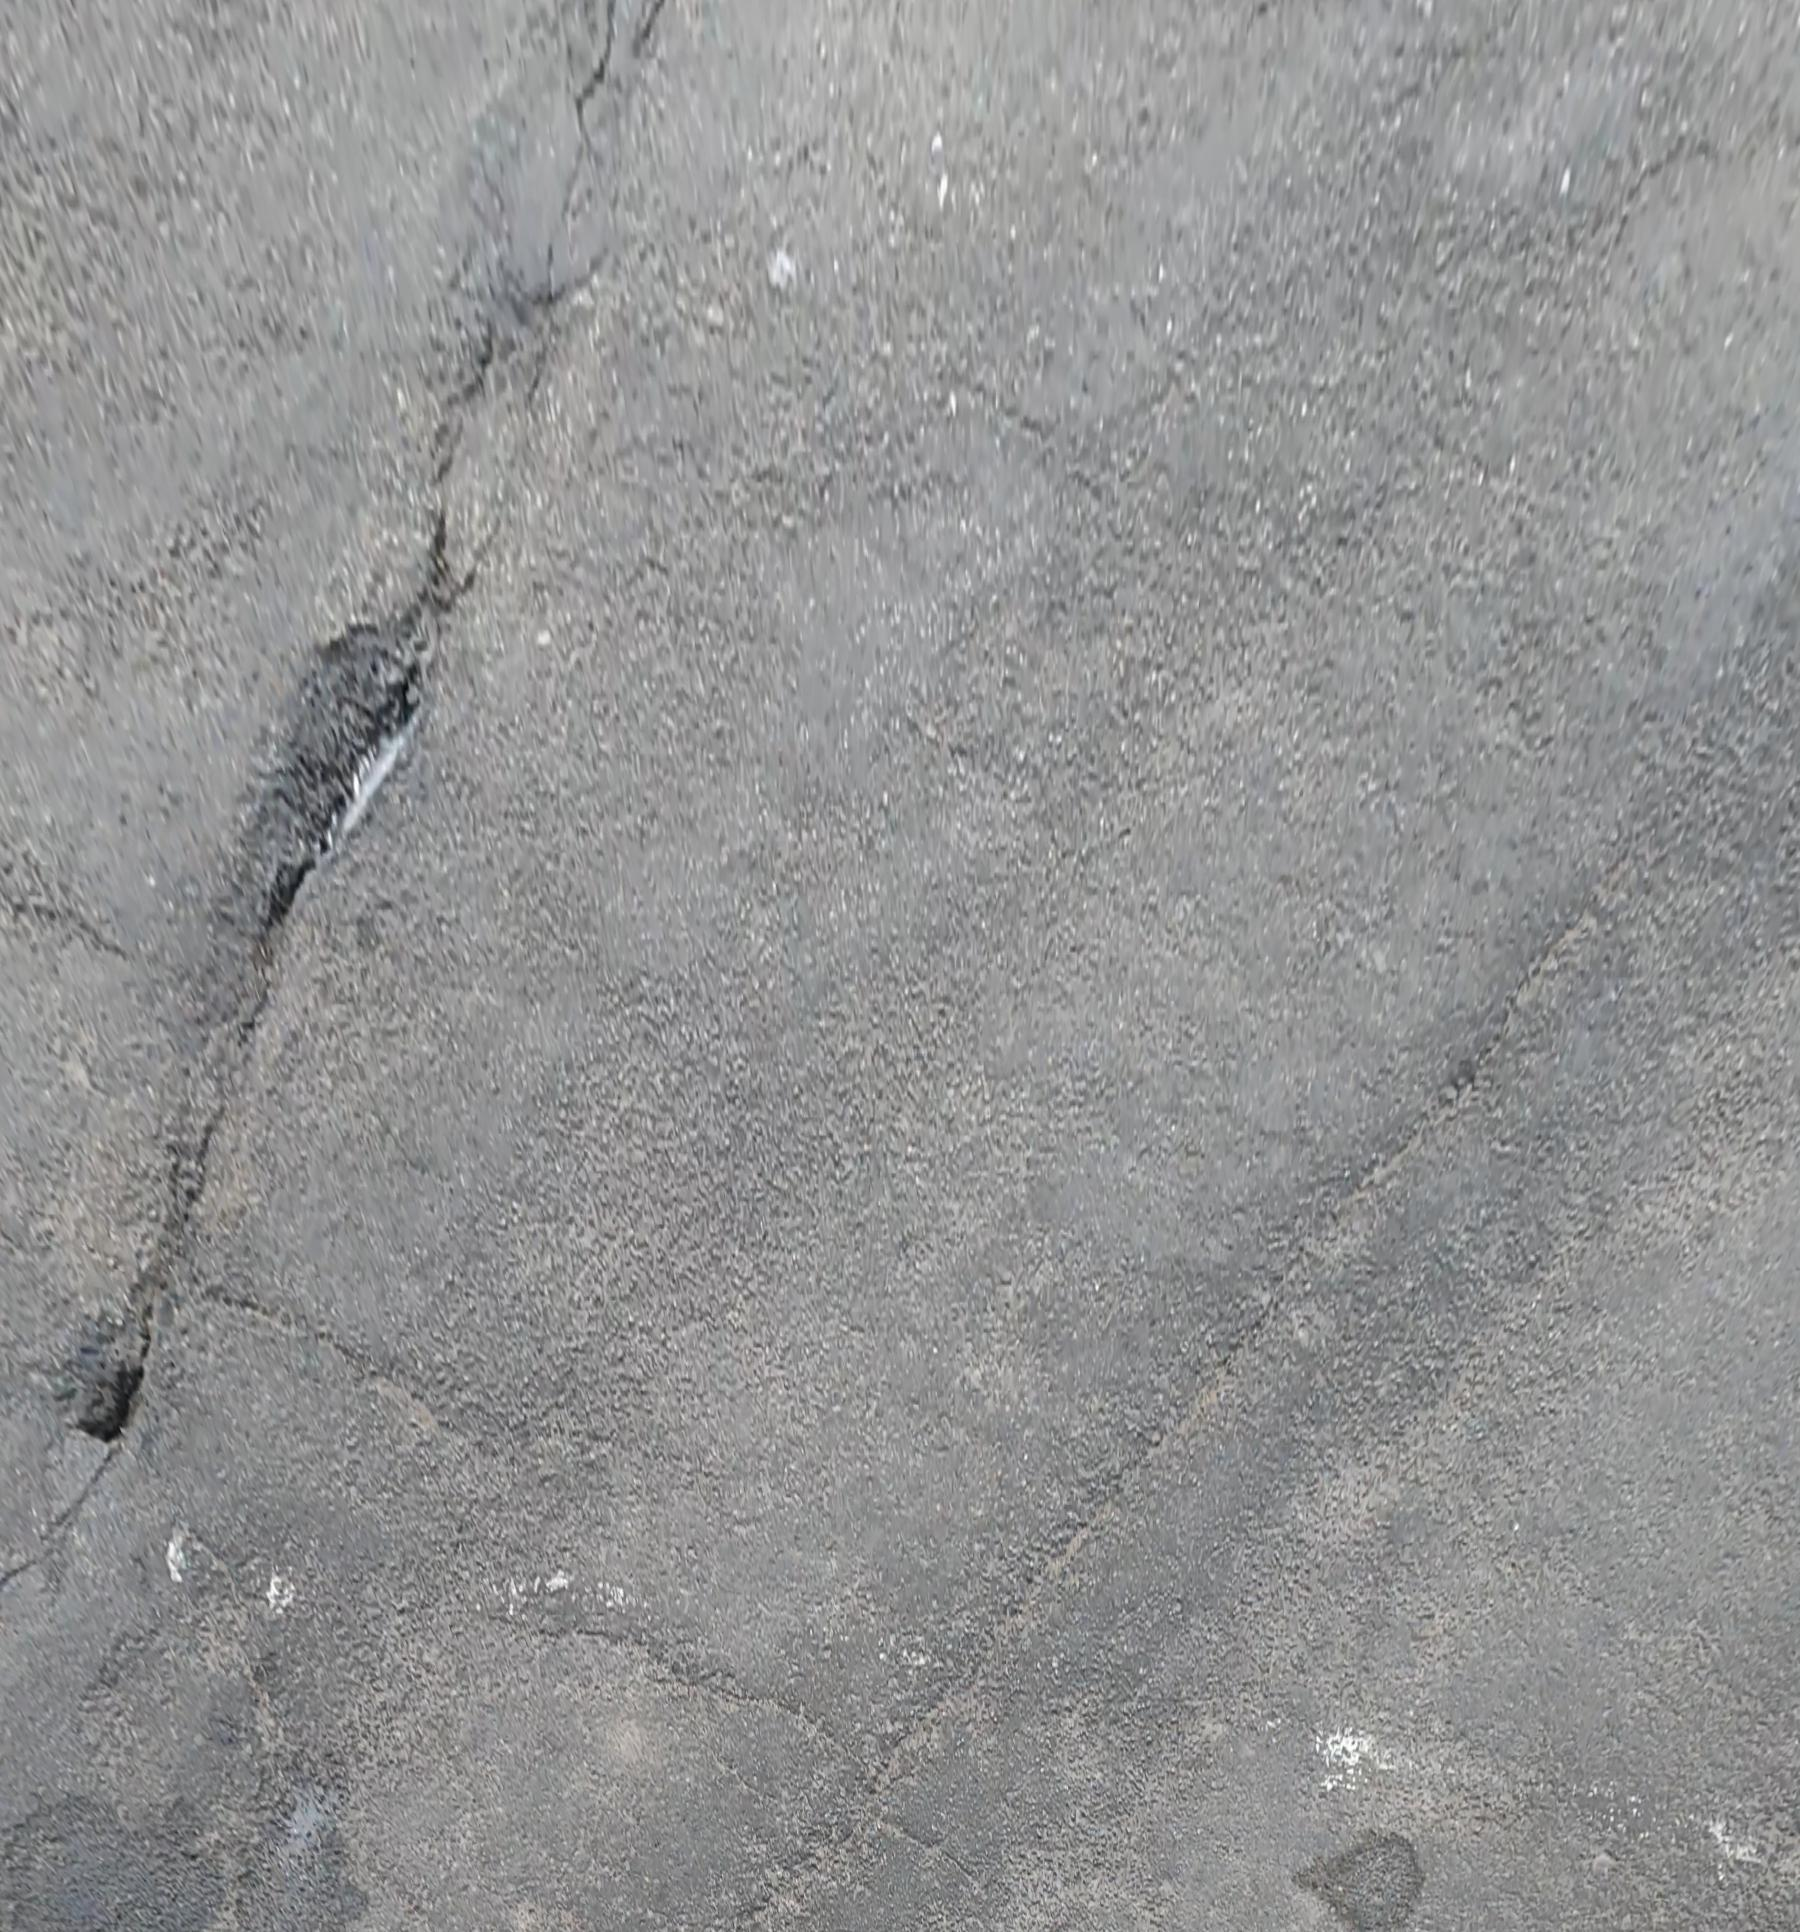pothole: (217, 611, 440, 929), (64, 1360, 139, 1448)
